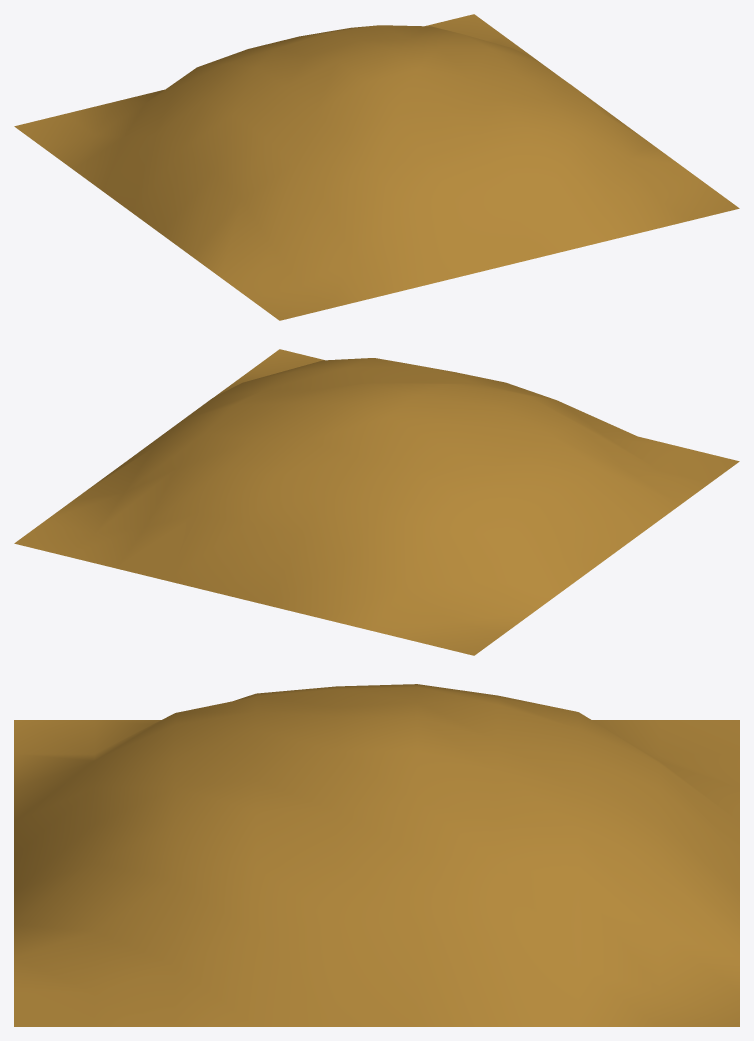
Rendered from soil.fbx.
The picture shows the model from 3 angles, top to bottom: view 1: azimuth 30°, elevation 25°; view 2: azimuth 150°, elevation 25°; view 3: azimuth 270°, elevation 25°; orthographic projection. The views are drawn at different scales.
Parts seen in each view (by area): view 1: Sphere; view 2: Sphere; view 3: Sphere.
Boxes of the visible parts, x1,y1,x2,y2 form: Sphere: (14, 14, 739, 320); Sphere: (14, 349, 739, 655); Sphere: (14, 684, 739, 1026).
Size of the model in its own units: 100 by 21.15 by 100.
